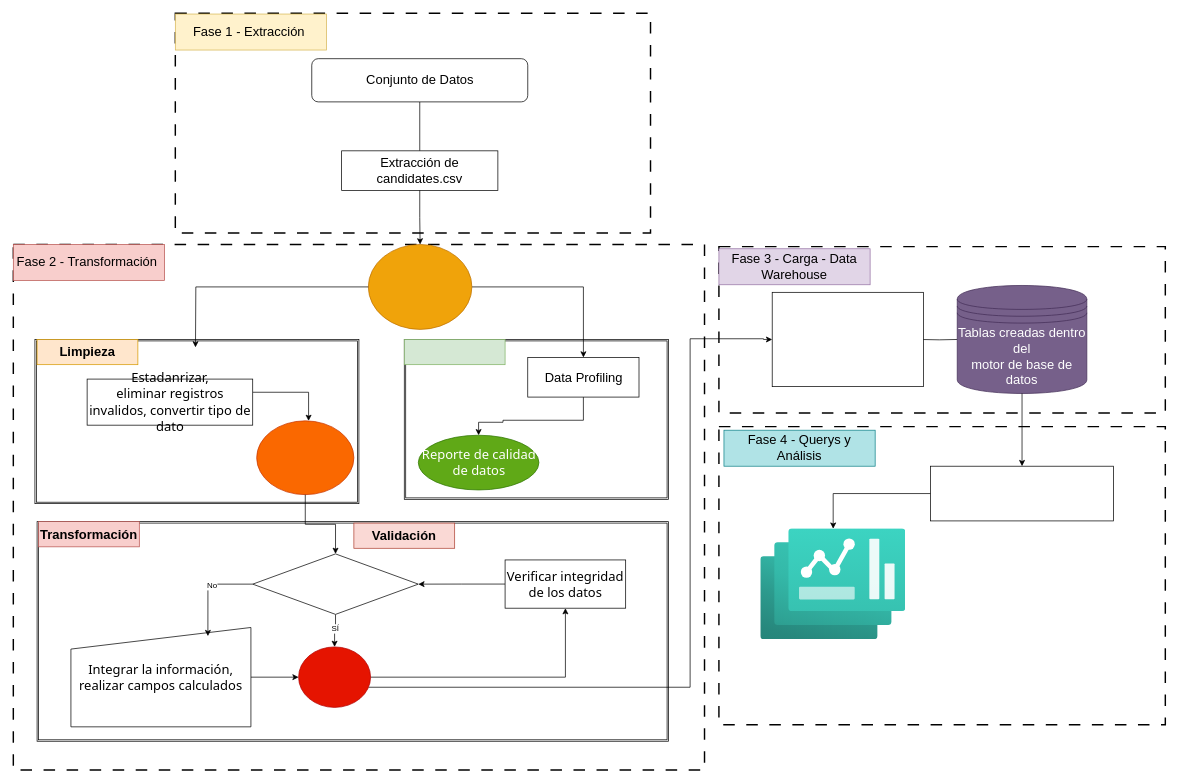
Some shapes in this 1178 by 783 pixel diagram are drawn without their labels. Here are the shapes that lost their labels. From the top down, the centre of each, then its label:
At (420,286): "Conjunto de Datos en Dataframe".
At (454,352): "Perfilado".
At (847,339): "Cargar los datos con base al modelo dimensional".
At (305,457): "Archivos estandarizados y limpios".
At (1021,493): "Consultas y querys".
At (335,583): "¿Cumple las reglas de validación?".
At (334,676): "Dataset integrado".
